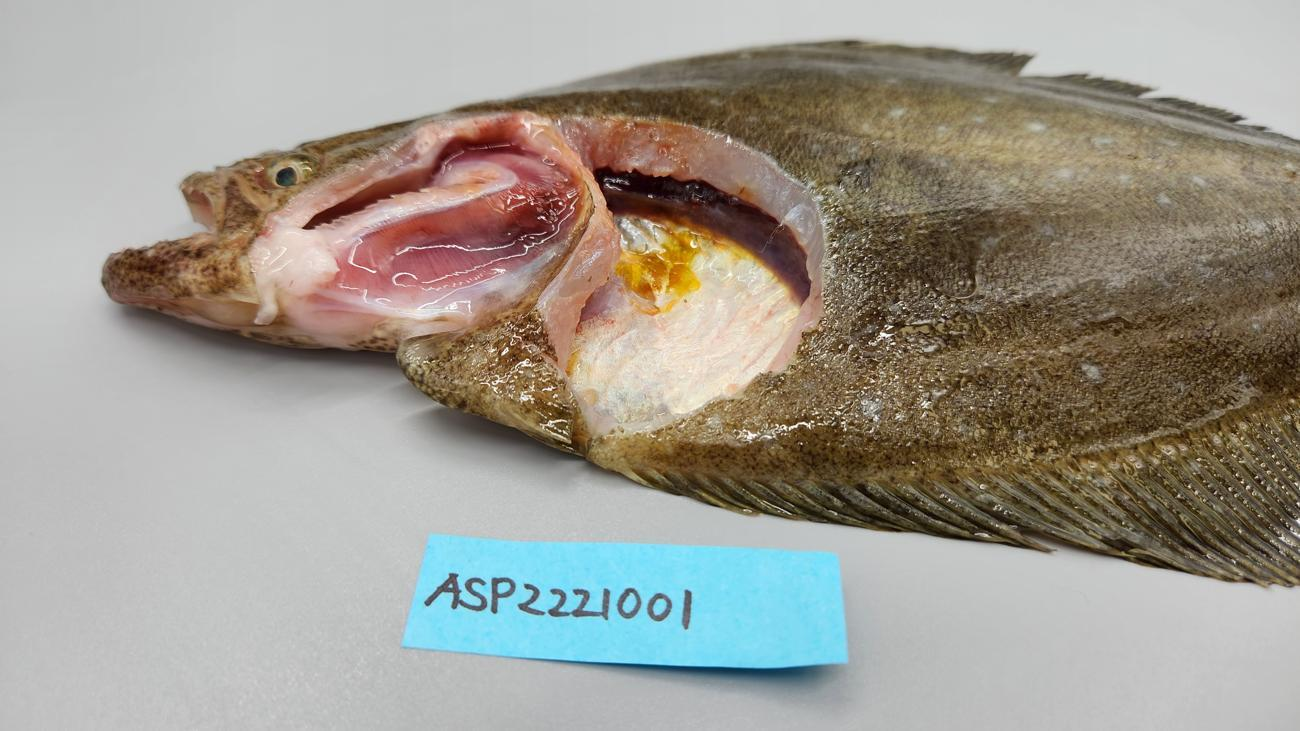SPASQ: (567, 212, 801, 420)
